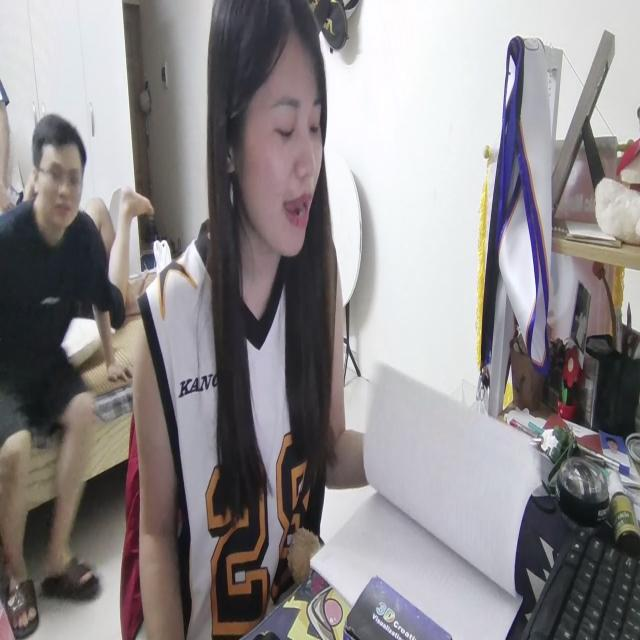book: (306, 355, 535, 640)
extra_person: (1, 108, 113, 640)
student: (129, 0, 368, 640)
